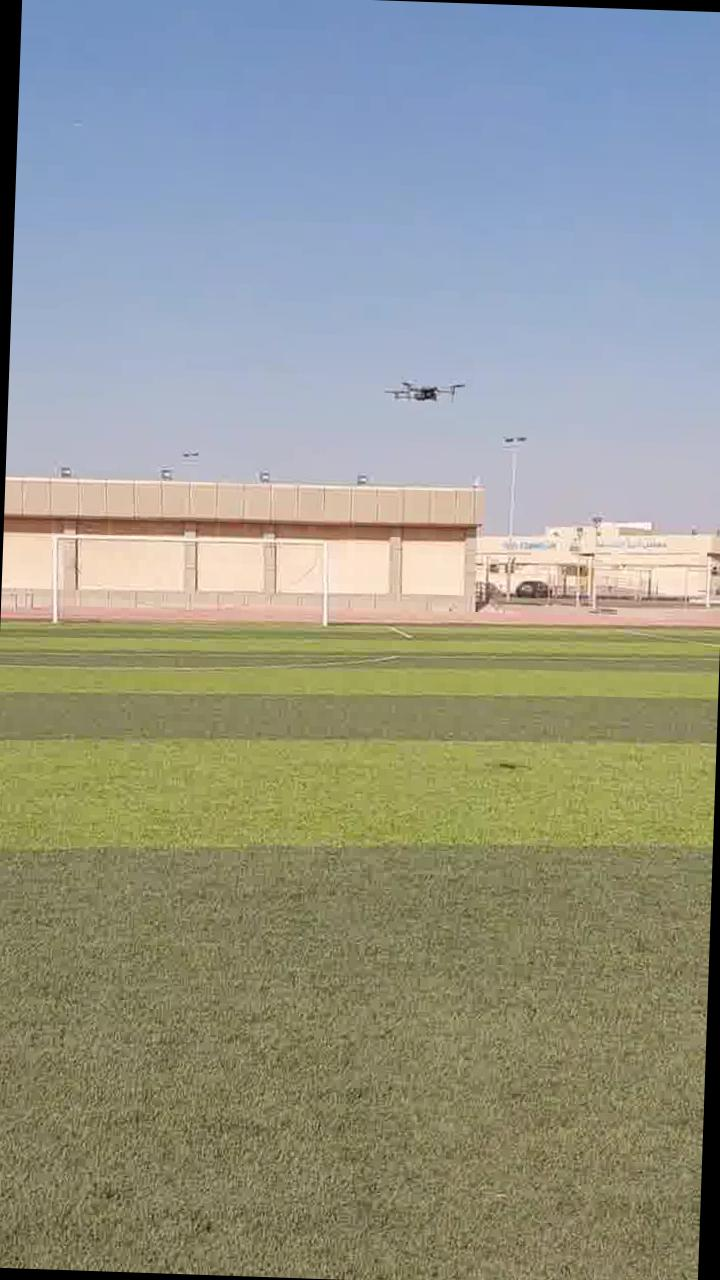drone: (376, 362, 469, 412)
